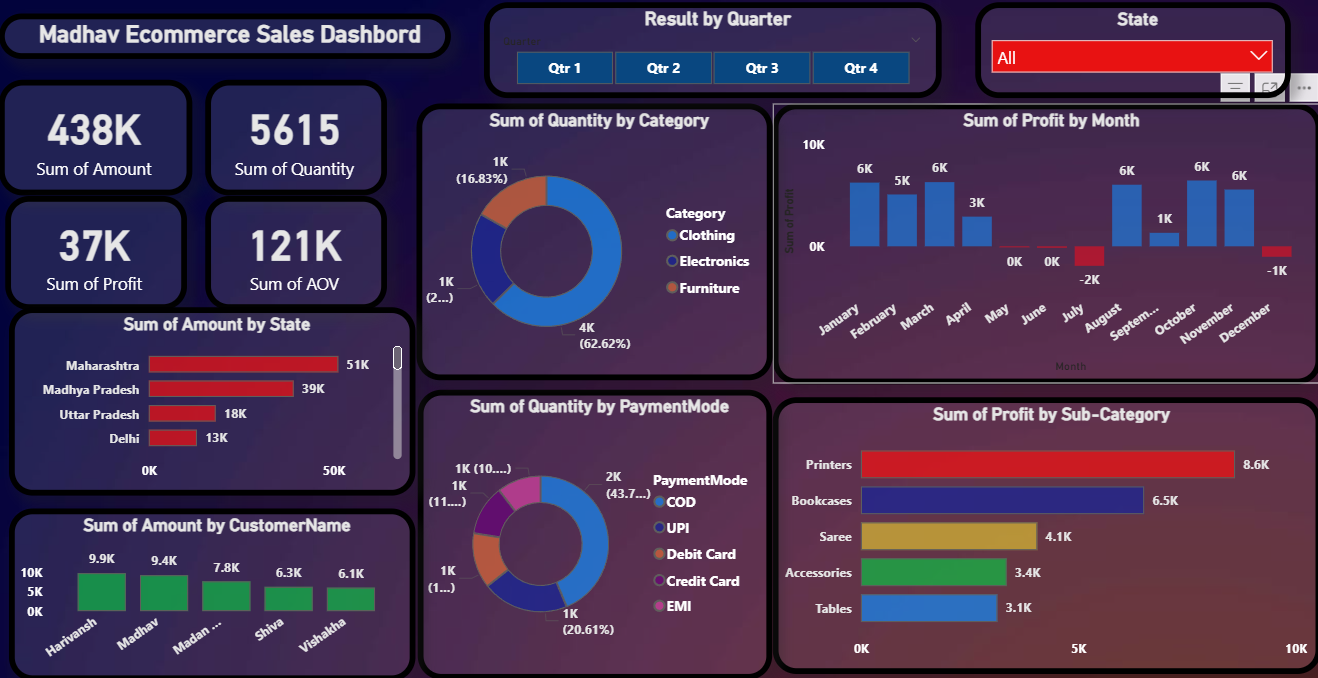

What the dashboard file says about the page in this screenshot:
{"tool":"powerbi","page":{"name":"Page 1","canvas":[1280,720],"ordinal":0},"visuals":[{"type":"textbox","title":"Madhav Ecommerce Sales Dashbord","box":[0,36.9,438,43.9],"z":0},{"type":"columnChart","fields":{"Category":["Orders (1).Order Date.Variation.Date Hierarchy.Month"],"Y":["Sum(Details (1) (1).Profit)"]},"box":[749.1,123.4,530.9,271.7],"z":1000},{"type":"barChart","fields":{"Category":["Details (1) (1).Sub-Category"],"Y":["Sum(Details (1) (1).Profit)"]},"box":[749.1,407.6,530.9,268.2],"z":2000},{"type":"donutChart","fields":{"Y":["Sum(Details (1) (1).Quantity)"],"Category":["Details (1) (1).PaymentMode"]},"box":[405.8,400.4,343.2,280.7],"z":3000},{"type":"donutChart","fields":{"Category":["Details (1) (1).Category"],"Y":["Sum(Details (1) (1).Quantity)"]},"box":[404,123.4,345,268.2],"z":4000},{"type":"card","fields":{"Values":["Sum(Details (1) (1).Amount)"]},"box":[0,100.6,187.1,112],"z":5000},{"type":"card","fields":{"Values":["Sum(Details (1) (1).Quantity)"]},"box":[199.8,100.6,175.7,112],"z":6000},{"type":"card","fields":{"Values":["Sum(Details (1) (1).Profit)"]},"box":[5.7,212.6,175.7,110.6],"z":7000},{"type":"card","fields":{"Values":["Sum(Details (1) (1).AOV)"]},"box":[199.8,212.6,175.7,110.6],"z":8000},{"type":"barChart","fields":{"Category":["Orders (1).State"],"Y":["Sum(Details (1) (1).Amount)"]},"box":[10,321.1,393.8,182.7],"z":9000},{"type":"columnChart","fields":{"Category":["Orders (1).CustomerName"],"Y":["Sum(Details (1) (1).Amount)"]},"box":[10,515.1,393.8,167],"z":10000},{"type":"slicer","title":"State","fields":{"Values":["Orders (1).State"]},"box":[945.7,25,305.7,93],"z":11000},{"type":"slicer","title":"Result by Quarter","fields":{"Values":["Orders (1).Order Date.Variation.Date Hierarchy.Quarter"]},"box":[470.2,25,443.4,93],"z":12000}]}

Visuals, with their boxes on the page's 1280x720 design canvas (x1, y1, x2, y2). These are canvas units, not pixel positions in the 1318x678 screenshot, which may show the page scaled, cropped or inside an application window:
"Madhav Ecommerce Sales Dashbord" textbox: (0, 37, 438, 81)
columnChart - Orders (1).Order Date.Variation.Date Hierarchy.Month x Sum(Details (1) (1).Profit): (749, 123, 1280, 395)
barChart - Details (1) (1).Sub-Category x Sum(Details (1) (1).Profit): (749, 408, 1280, 676)
donutChart - Sum(Details (1) (1).Quantity) x Details (1) (1).PaymentMode: (406, 400, 749, 681)
donutChart - Details (1) (1).Category x Sum(Details (1) (1).Quantity): (404, 123, 749, 392)
card - Sum(Details (1) (1).Amount): (0, 101, 187, 213)
card - Sum(Details (1) (1).Quantity): (200, 101, 376, 213)
card - Sum(Details (1) (1).Profit): (6, 213, 181, 323)
card - Sum(Details (1) (1).AOV): (200, 213, 376, 323)
barChart - Orders (1).State x Sum(Details (1) (1).Amount): (10, 321, 404, 504)
columnChart - Orders (1).CustomerName x Sum(Details (1) (1).Amount): (10, 515, 404, 682)
"State" slicer: (946, 25, 1251, 118)
"Result by Quarter" slicer: (470, 25, 914, 118)
